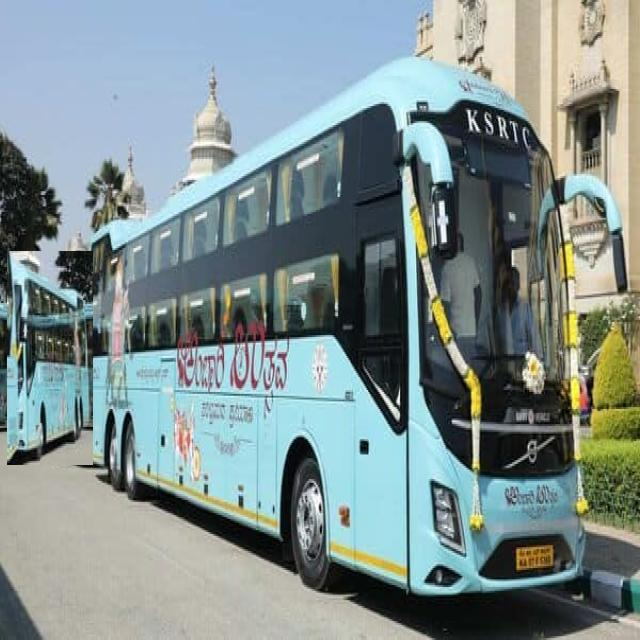bus: (79, 55, 619, 604), (7, 252, 93, 465), (0, 299, 58, 436)
